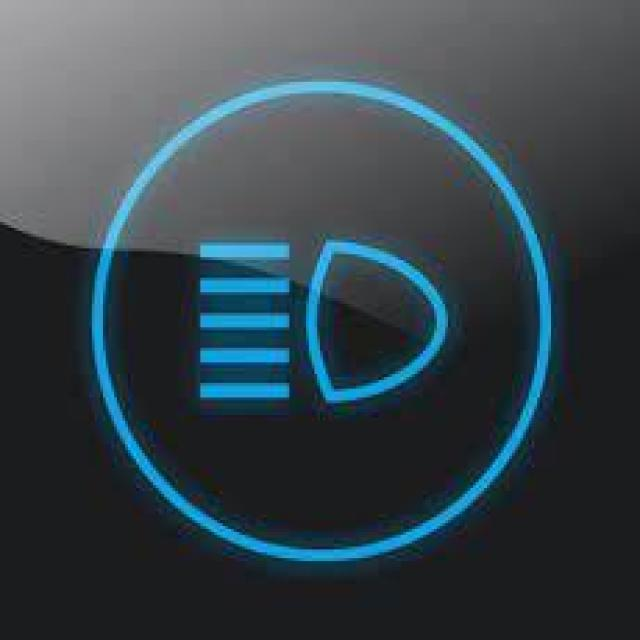kontrolka: (181, 207, 460, 424)
